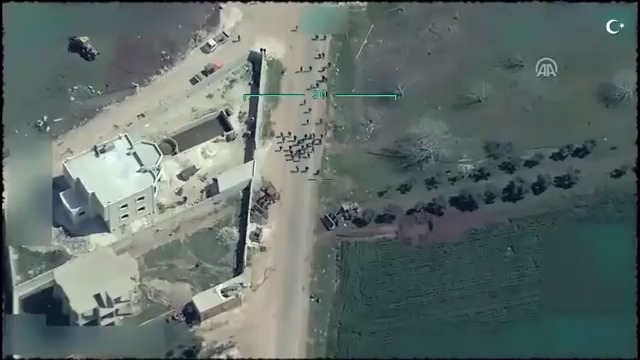arac: (321, 195, 364, 234), (67, 29, 99, 69), (197, 28, 235, 56)
bina: (54, 123, 173, 235), (51, 238, 152, 327)
insan: (293, 161, 305, 176), (295, 62, 306, 77), (299, 97, 308, 109), (286, 127, 294, 137), (305, 106, 314, 114), (304, 163, 309, 176), (278, 145, 287, 152)
